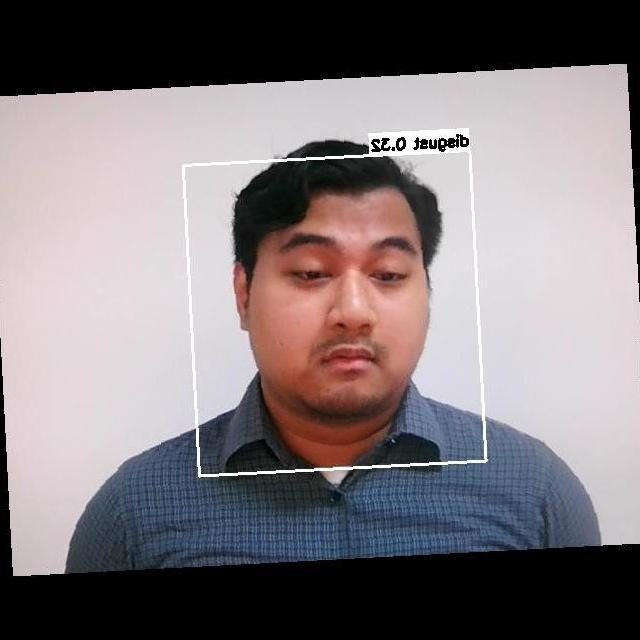Fear: (242, 206, 429, 401)
